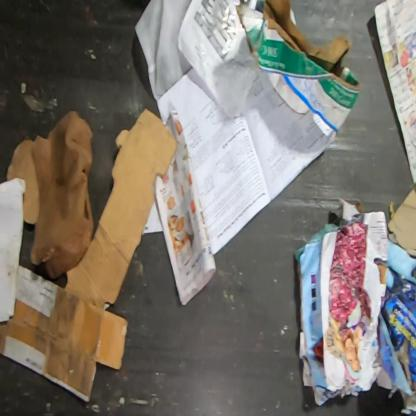cardboard: (64, 105, 180, 312), (0, 262, 130, 402), (232, 0, 364, 135), (0, 178, 25, 321), (386, 183, 416, 257)
